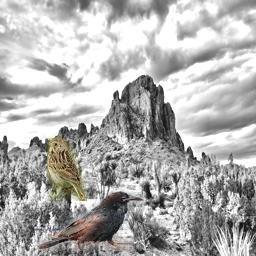Crow: (39, 191, 143, 251)
Sparrow: (47, 138, 87, 201)
